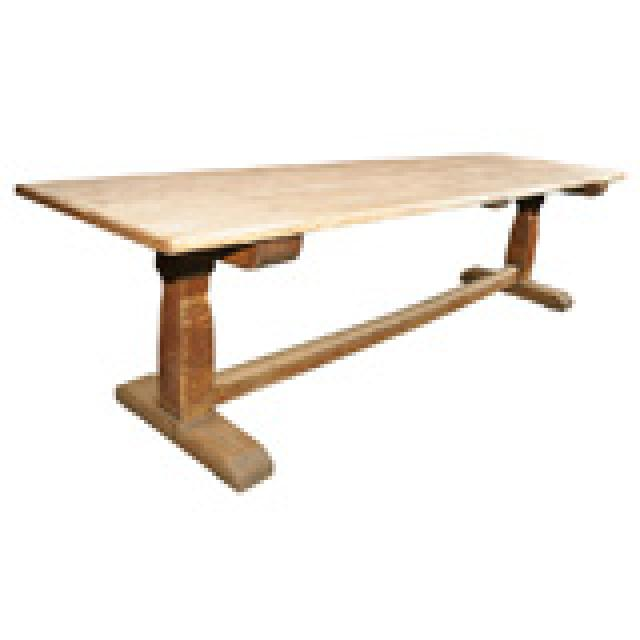table: (10, 151, 632, 499)
